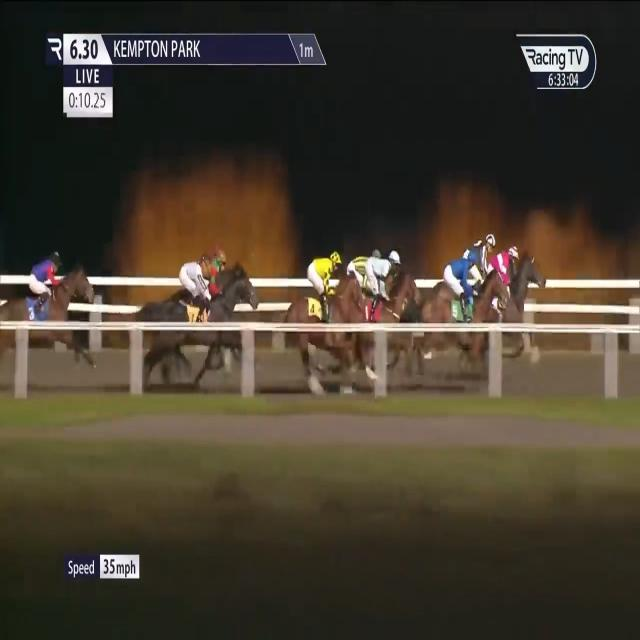horses-racing: (0, 246, 109, 359), (287, 248, 351, 378), (356, 246, 416, 384), (136, 250, 210, 350), (425, 248, 496, 345), (487, 239, 552, 319), (186, 242, 258, 313), (342, 242, 381, 316), (453, 230, 492, 296)
